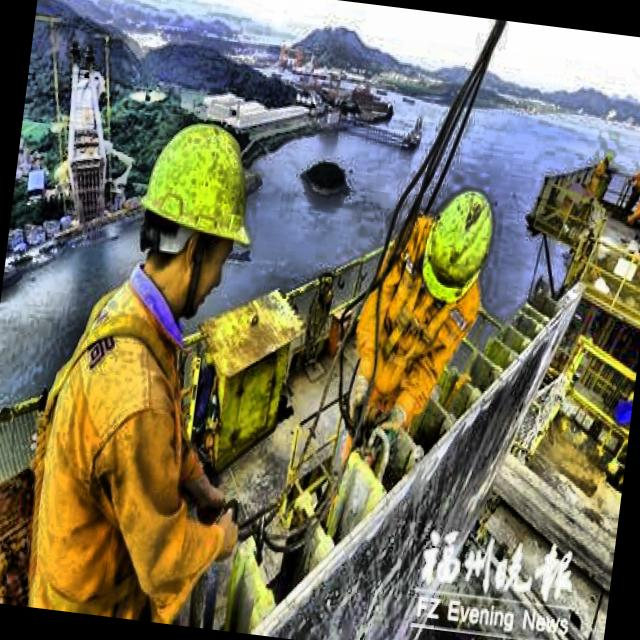helmet: (130, 115, 262, 321), (419, 187, 497, 309)
